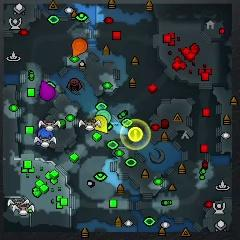Other: (128, 127, 144, 142)
p1: (37, 128, 53, 145)
p2: (96, 110, 112, 124)
p3: (39, 80, 55, 100)
p4: (92, 116, 108, 134)
p5: (72, 38, 87, 57)
